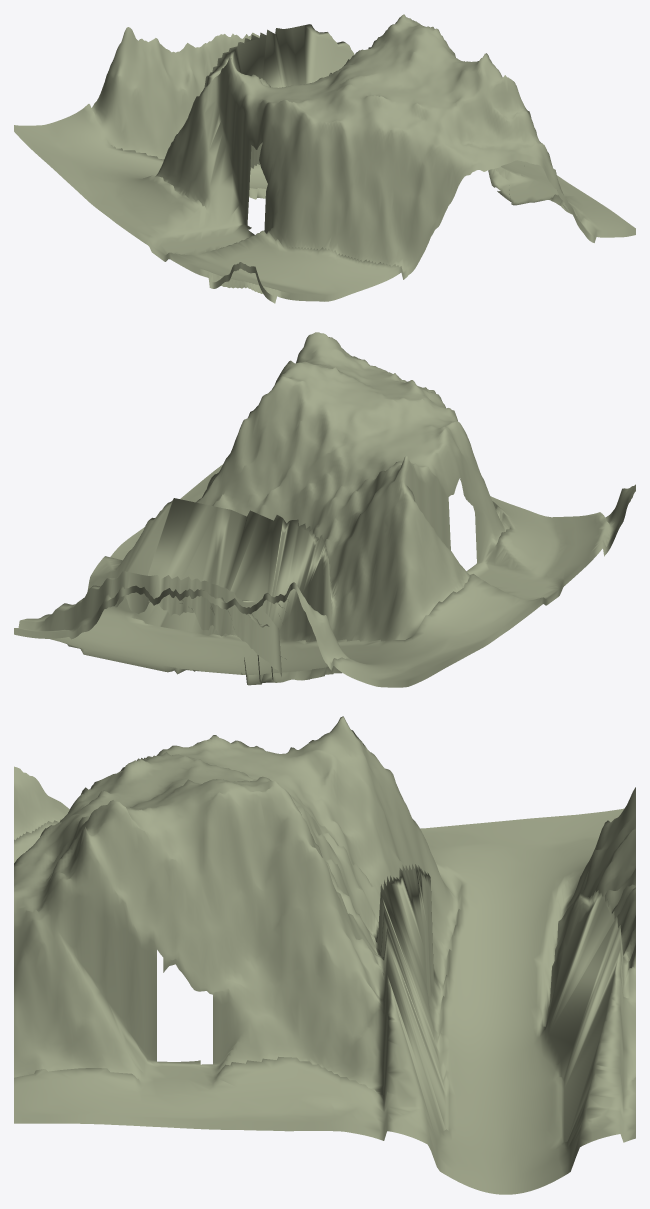
The model's file is terrain_r1_c1_lod0.glb.
The picture shows the model from 3 angles, top to bottom: view 1: azimuth 30°, elevation 25°; view 2: azimuth 150°, elevation 25°; view 3: azimuth 270°, elevation 25°; orthographic projection. The views are drawn at different scales.
Parts seen in each view (by area): view 1: terrain_r1_c1; view 2: terrain_r1_c1; view 3: terrain_r1_c1.
Boxes of the visible parts, x1,y1,x2,y2 form: terrain_r1_c1: [14, 14, 635, 303]; terrain_r1_c1: [14, 332, 635, 687]; terrain_r1_c1: [14, 716, 635, 1194].
Size of the model in its own units: 50 by 28.62 by 50.
